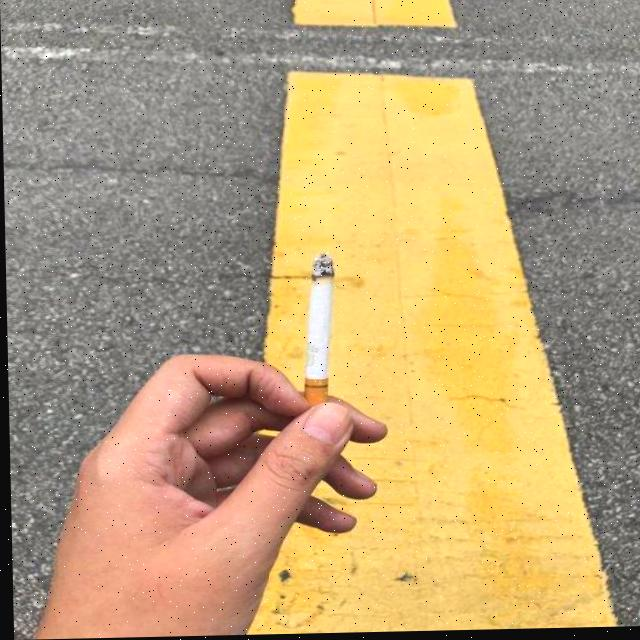cigarette: (300, 255, 336, 412)
